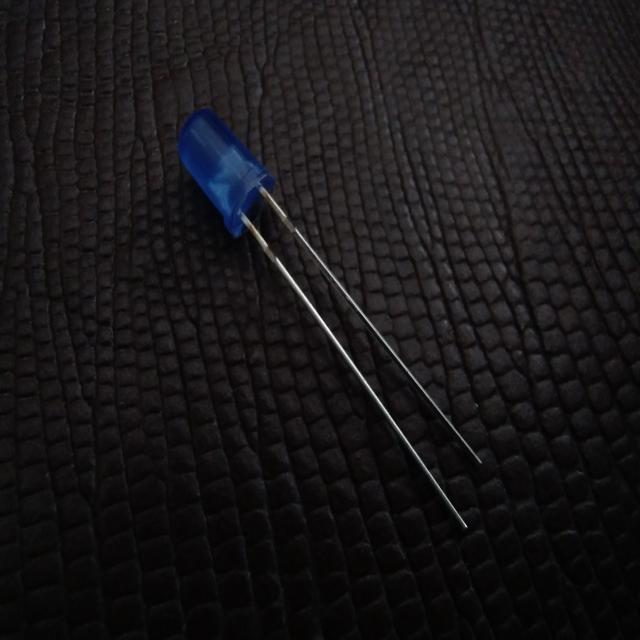blue_led: (177, 106, 275, 240)
